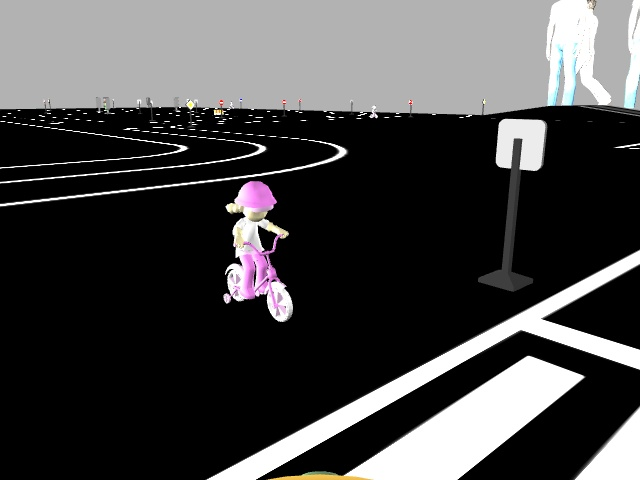Pedestrian: (209, 177, 304, 324)
